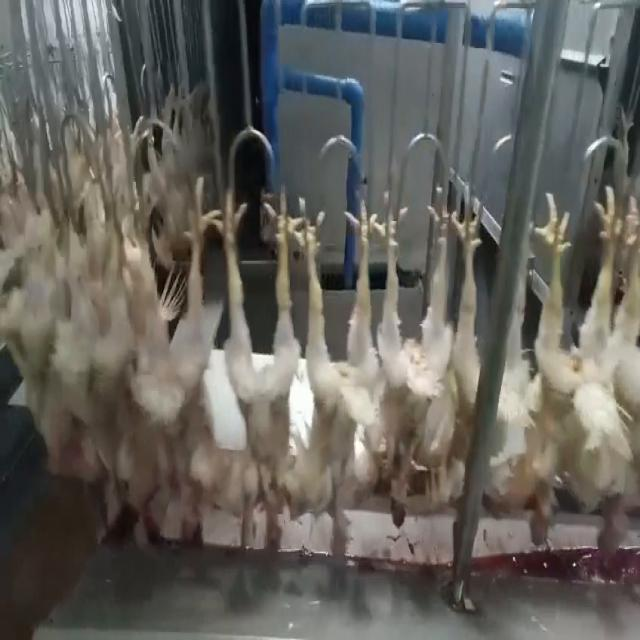chicken: (124, 183, 217, 544), (216, 184, 297, 566), (567, 186, 640, 566), (300, 194, 372, 565), (512, 188, 574, 552), (374, 198, 429, 531), (438, 179, 487, 502)
